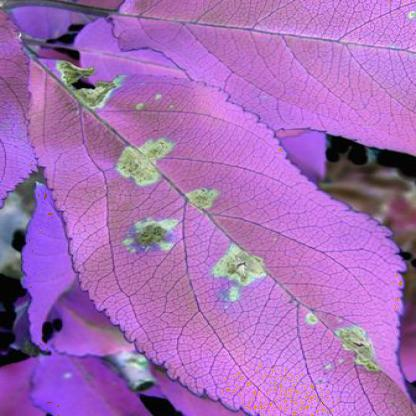Apple Scab Leaf: (29, 57, 414, 410)
